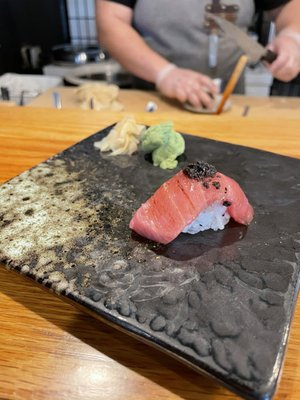sandwich: (217, 54, 248, 114)
